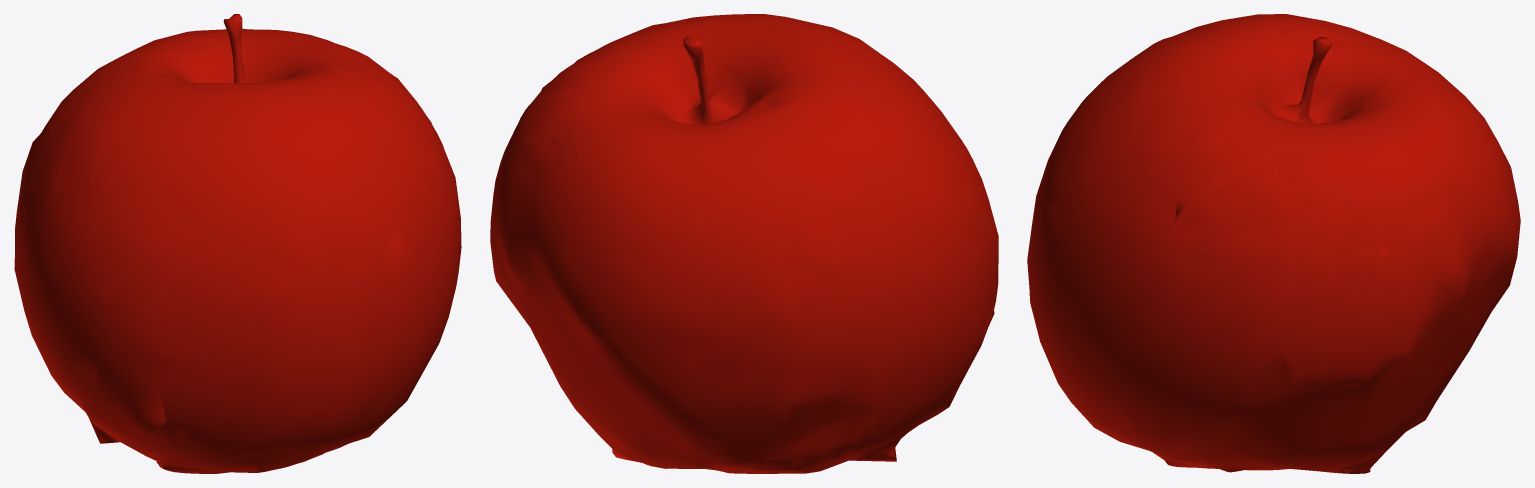
File: Apple_Prestine_1.fbx
3 renders of one model, left to right at view 1: azimuth 30°, elevation 25°; view 2: azimuth 150°, elevation 25°; view 3: azimuth 270°, elevation 25°, orthographic. The views are drawn at different scales.
Visible parts, largest first — view 1: 3DModel; view 2: 3DModel; view 3: 3DModel.
Part boxes in pixels (bbox=[...]): 3DModel: bbox=[14, 14, 461, 473]; 3DModel: bbox=[490, 14, 998, 473]; 3DModel: bbox=[1027, 14, 1520, 473].
Bounding box in the file's own units: 41.95 × 38.46 × 42.06.
